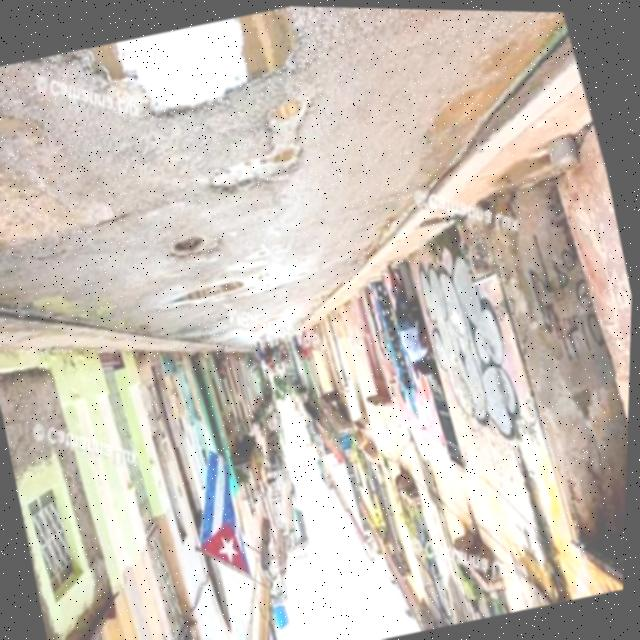Pothole: (0, 0, 330, 179), (200, 131, 318, 211), (165, 266, 256, 320), (164, 223, 225, 275), (256, 87, 316, 134)
